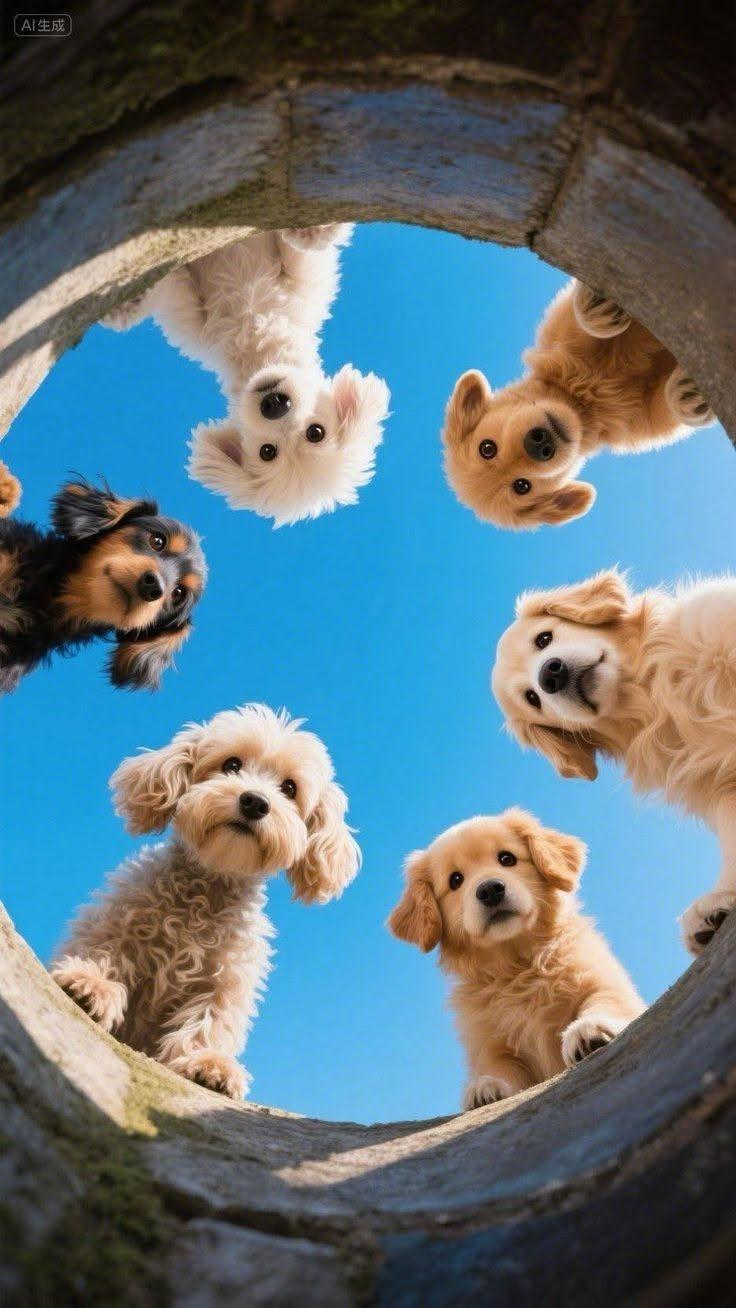adult_dog: (46, 705, 363, 1101), (488, 568, 736, 961), (94, 221, 391, 529), (0, 462, 209, 699)
puppy-dog: (387, 807, 650, 1113), (439, 277, 719, 534)
